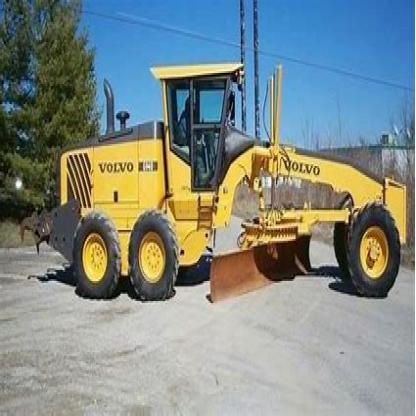bull_dozer/loader/grader: (33, 42, 415, 319)
